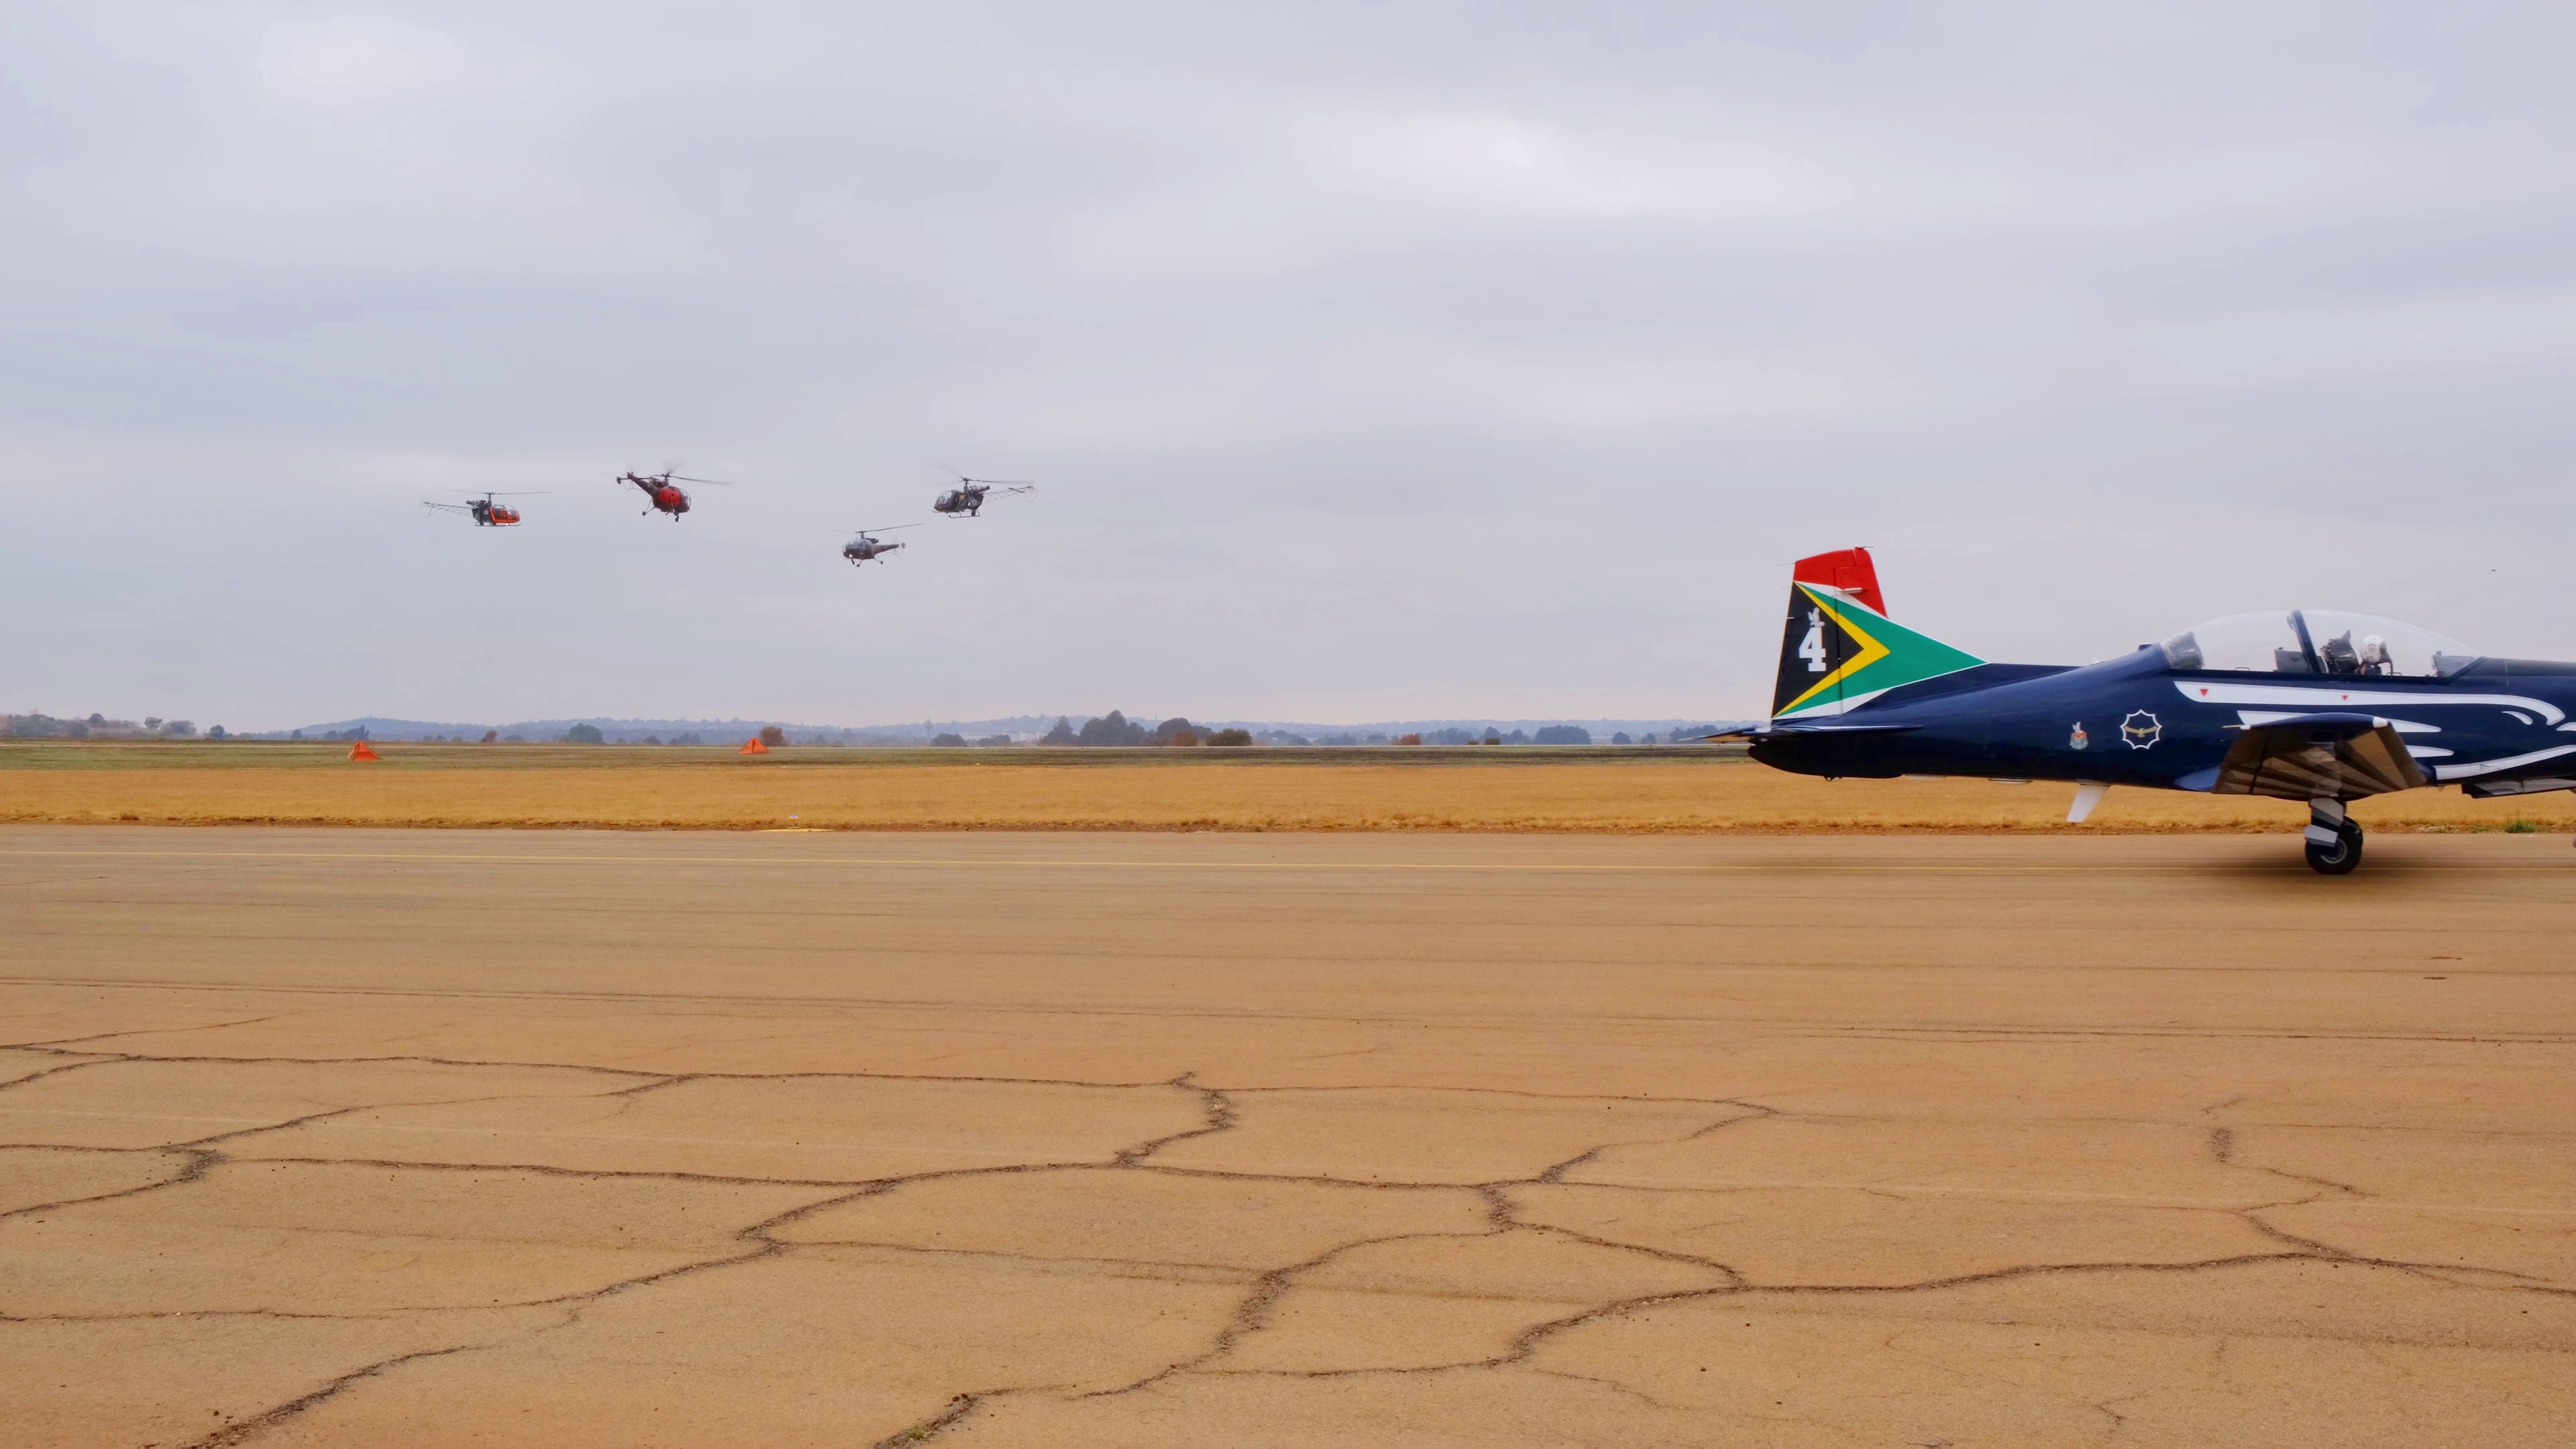heli: (614, 467, 709, 522), (423, 485, 529, 529), (931, 476, 1037, 518), (842, 522, 911, 566)
plane: (1748, 545, 2576, 874)
